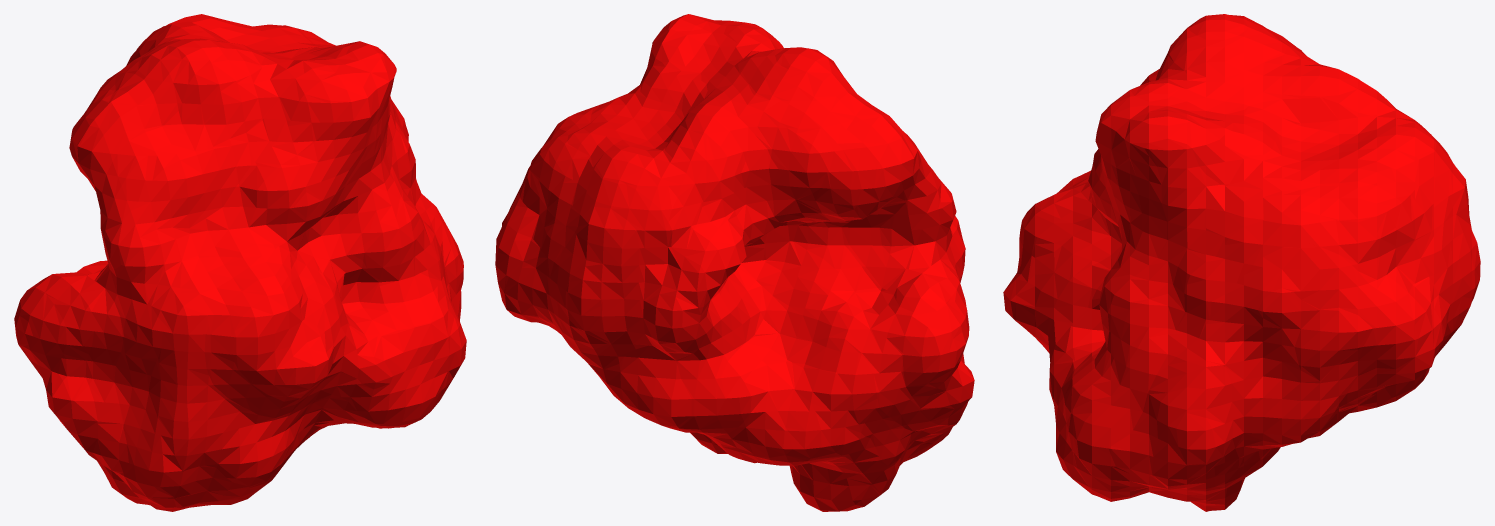
File: bisC_coarse.dae
The picture shows the model from 3 angles, left to right: view 1: azimuth 30°, elevation 25°; view 2: azimuth 150°, elevation 25°; view 3: azimuth 270°, elevation 25°; orthographic projection. The views are drawn at different scales.
Visible parts, largest first — view 1: bisC; view 2: bisC; view 3: bisC.
Part boxes in pixels (x1=…): bisC: x1=14, y1=14, x2=466, y2=511; bisC: x1=495, y1=14, x2=974, y2=511; bisC: x1=1003, y1=14, x2=1480, y2=511.
Size of the model in its own units: 75.4 by 77.66 by 70.53.
